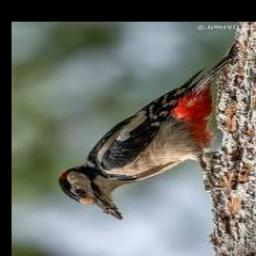Woodpecker: (59, 43, 238, 220)
